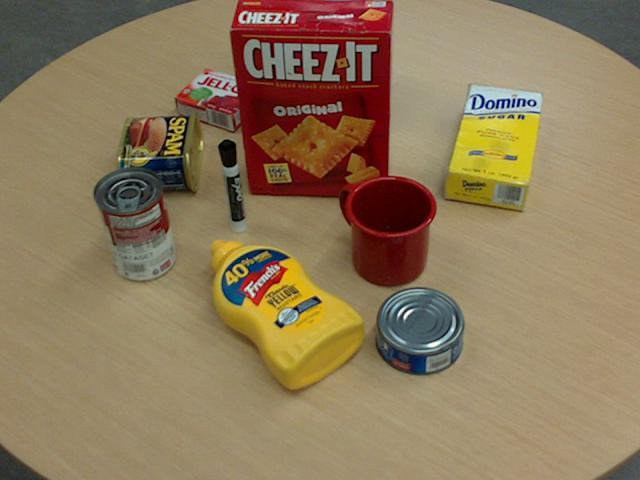cracker_box: (229, 0, 395, 195)
gelatin_box: (172, 67, 262, 131)
large_marker: (217, 139, 246, 234)
master_chef_can: (298, 0, 385, 126)
mug: (340, 174, 436, 285)
mustard_bottle: (208, 239, 364, 388)
potted_meat_can: (117, 111, 203, 191)
sugar_box: (445, 85, 542, 209)
tomato_soup_can: (92, 165, 174, 280)
tuna_fish_can: (376, 286, 465, 374)
